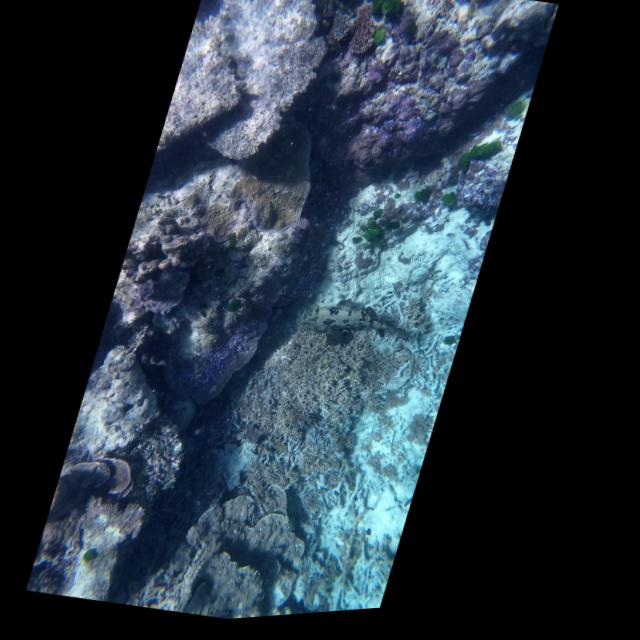Groupers: (289, 282, 419, 361)
